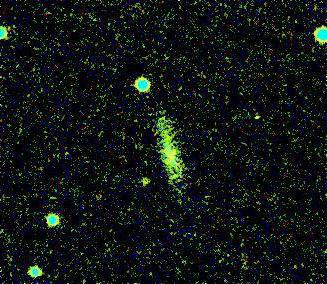star: (131, 166, 161, 196)
